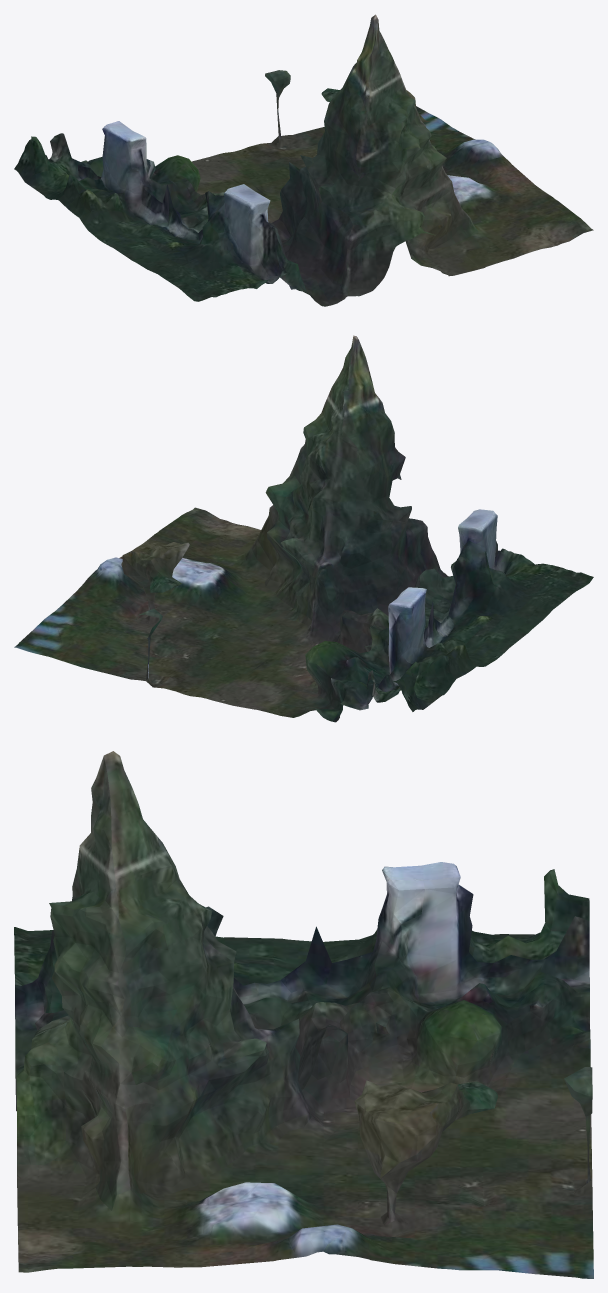
File: Tile_+006_+007_L22_0003110.glb
The picture shows the model from 3 angles, top to bottom: view 1: azimuth 30°, elevation 25°; view 2: azimuth 150°, elevation 25°; view 3: azimuth 270°, elevation 25°; orthographic projection. The views are drawn at different scales.
Parts seen in each view (by area): view 1: rtc; view 2: rtc; view 3: rtc.
Boxes of the visible parts, x1=… form: rtc: x1=14, y1=14, x2=593, y2=306; rtc: x1=14, y1=335, x2=593, y2=722; rtc: x1=14, y1=751, x2=593, y2=1278.
Bounding box in the file's own units: 8.86 × 5.38 × 7.1.
1 material, 1 textured.
